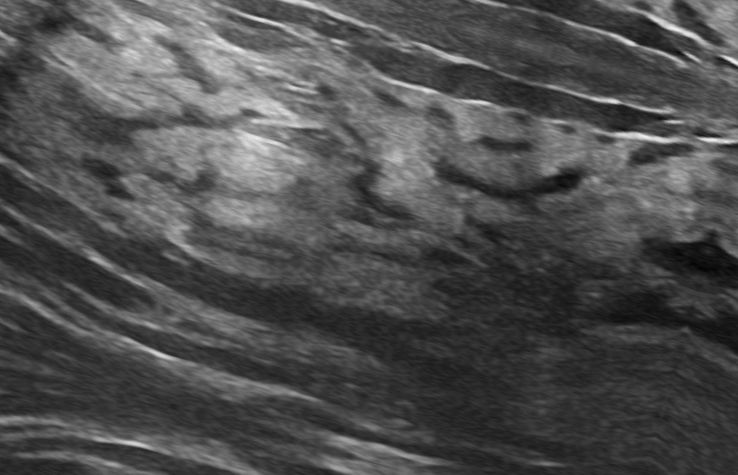Normal: (6, 0, 738, 468)
